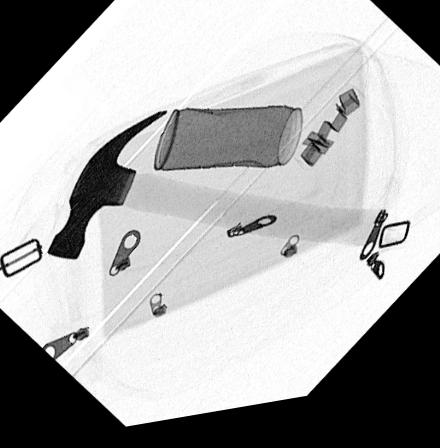Hammer: (44, 116, 384, 263)
